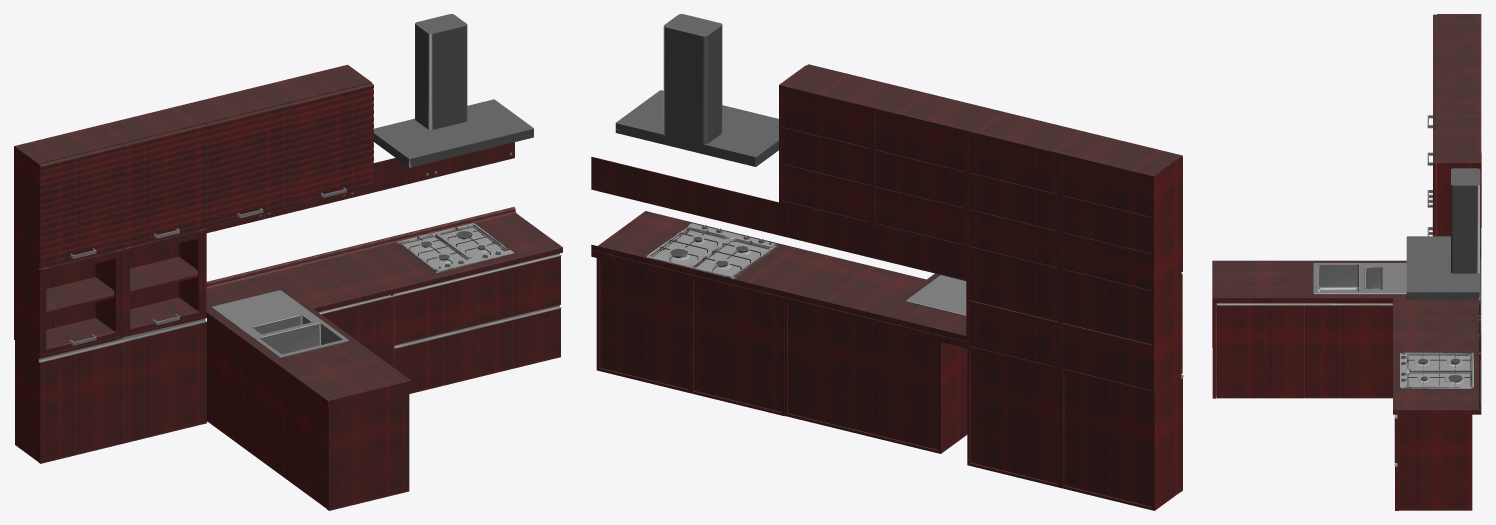
The model's file is raw_model.obj.
The picture shows the model from 3 angles, left to right: view 1: azimuth 30°, elevation 25°; view 2: azimuth 150°, elevation 25°; view 3: azimuth 270°, elevation 25°; orthographic projection. The views are drawn at different scales.
Visible parts, largest first — view 1: solid_009, solid_008, solid_001, solid_002, solid_003, solid_006; view 2: solid_009, solid_008, solid_003, solid_001, solid_006; view 3: solid_009, solid_008, solid_001, solid_003, solid_006.
Boxes of the visible parts, x1,y1,x2,y2 form: solid_009: [14, 64, 562, 510]; solid_008: [373, 14, 533, 167]; solid_001: [38, 152, 561, 362]; solid_002: [38, 228, 206, 358]; solid_003: [396, 223, 513, 272]; solid_006: [402, 226, 505, 268]; solid_009: [591, 64, 1182, 510]; solid_008: [615, 14, 778, 166]; solid_003: [646, 223, 777, 279]; solid_001: [906, 275, 1183, 378]; solid_006: [652, 225, 771, 277]; solid_009: [1212, 14, 1481, 510]; solid_008: [1406, 168, 1480, 300]; solid_001: [1217, 115, 1480, 466]; solid_003: [1399, 352, 1473, 388]; solid_006: [1401, 352, 1471, 387].
Size of the model in its own units: 3.6 by 2.23 by 1.83.
1 material, 1 textured.
